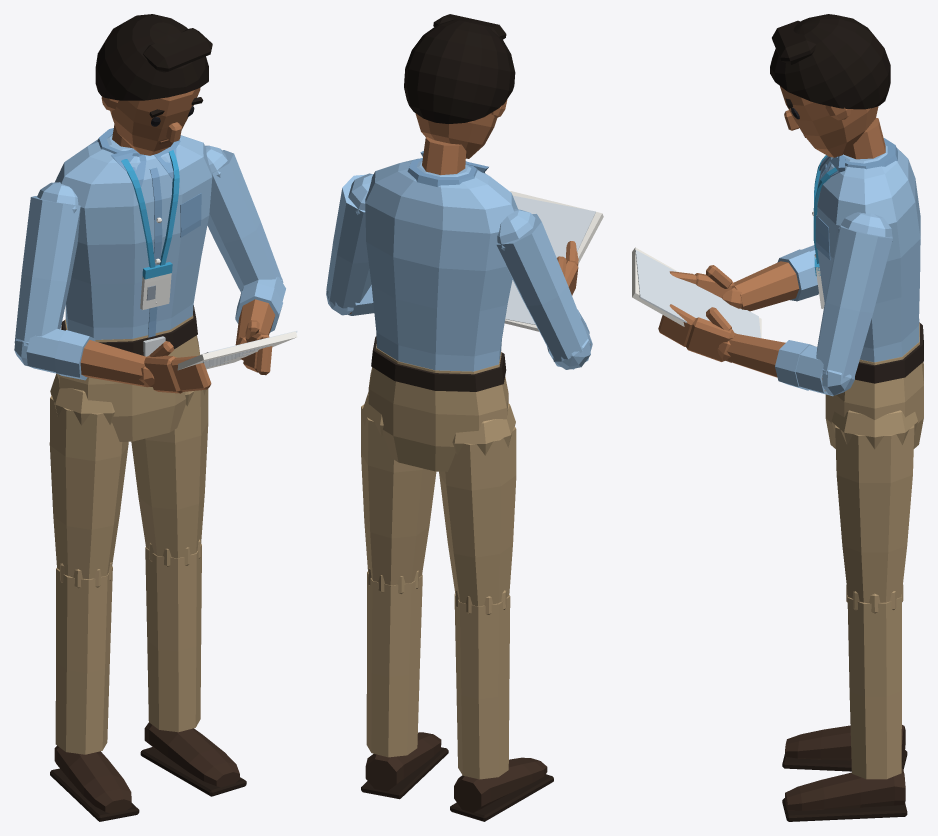
Rendered from person_coworker_printer.glb.
The picture shows the model from 3 angles, left to right: view 1: azimuth 30°, elevation 25°; view 2: azimuth 150°, elevation 25°; view 3: azimuth 270°, elevation 25°; orthographic projection.
Parts seen in each view (by area): view 1: Chest, Thigh_R, Head, Shin_R, Shin_L, Thigh_L, UpperArm_R, Hips, UpperArm_L, Forearm_R, Foot_L, Foot_R (+4 smaller); view 2: Chest, Thigh_R, Head, Hips, Shin_R, Shin_L, Thigh_L, UpperArm_R, UpperArm_L, Papers, Foot_R, Foot_L (+4 smaller); view 3: Chest, Thigh_L, Head, Shin_L, UpperArm_L, Hips, Foot_L, Papers, Forearm_L, Forearm_R, Foot_R, Hand_L (+2 smaller).
Part boxes in pixels (x1=…): Chest: x1=55, y1=128, x2=212, y2=339; Thigh_R: x1=49, y1=373, x2=128, y2=579; Head: x1=95, y1=14, x2=212, y2=155; Shin_R: x1=55, y1=562, x2=112, y2=754; Shin_L: x1=145, y1=539, x2=201, y2=732; Thigh_L: x1=131, y1=389, x2=208, y2=558; UpperArm_R: x1=14, y1=182, x2=80, y2=346; Hips: x1=58, y1=305, x2=200, y2=441; UpperArm_L: x1=205, y1=145, x2=283, y2=292; Forearm_R: x1=14, y1=328, x2=147, y2=387; Foot_L: x1=140, y1=722, x2=246, y2=796; Foot_R: x1=50, y1=745, x2=139, y2=821; Chest: x1=365, y1=151, x2=517, y2=371; Thigh_R: x1=439, y1=403, x2=516, y2=606; Head: x1=404, y1=14, x2=515, y2=158; Hips: x1=368, y1=336, x2=508, y2=471; Shin_R: x1=454, y1=589, x2=510, y2=779; Shin_L: x1=366, y1=567, x2=422, y2=757; Thigh_L: x1=361, y1=392, x2=436, y2=585; UpperArm_R: x1=496, y1=209, x2=589, y2=360; UpperArm_L: x1=326, y1=173, x2=373, y2=308; Papers: x1=504, y1=191, x2=603, y2=331; Foot_R: x1=450, y1=757, x2=553, y2=821; Foot_L: x1=361, y1=732, x2=448, y2=799; Chest: x1=812, y1=138, x2=920, y2=362; Thigh_L: x1=831, y1=410, x2=917, y2=602; Head: x1=770, y1=14, x2=890, y2=157; Shin_L: x1=846, y1=585, x2=903, y2=779; UpperArm_L: x1=816, y1=212, x2=892, y2=379; Hips: x1=825, y1=322, x2=923, y2=448; Foot_L: x1=782, y1=768, x2=907, y2=821; Papers: x1=632, y1=247, x2=761, y2=338; Forearm_L: x1=727, y1=333, x2=854, y2=396; Forearm_R: x1=733, y1=245, x2=818, y2=311; Foot_R: x1=782, y1=725, x2=907, y2=771; Hand_L: x1=658, y1=304, x2=735, y2=362.
Bounding box in the file's own units: 0.6058 × 1.69 × 0.5821.
